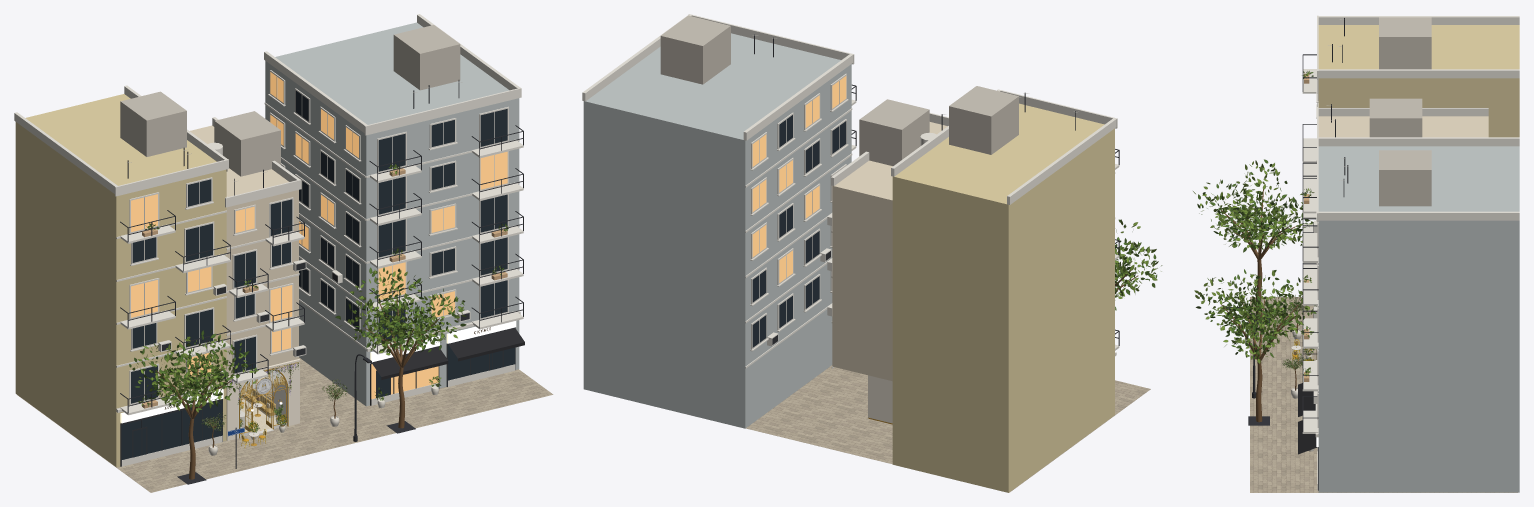
The model's file is boutique-30.glb.
3 renders of one model, left to right at view 1: azimuth 30°, elevation 25°; view 2: azimuth 150°, elevation 25°; view 3: azimuth 270°, elevation 25°, orthographic. The views are drawn at different scales.
Parts seen in each view (by area): view 1: bw4, bw6, bwtrim, win, paving, bw3, win_lit_n, facade_hi, leaf, iron, leaf2, aw_k (+5 smaller); view 2: bw6, bw4, bwtrim, facade_hi, bw3, paving, win, win_lit_n, plaster, leaf; view 3: bw6, bw4, bwtrim, paving, bw3, leaf, leaf2, facade_hi, iron, trunk, aw_k.
Boxes of the visible parts, left/top/right/bottom form: bw4: left=15, top=94, right=226, bottom=467; bw6: left=265, top=22, right=519, bottom=406; bwtrim: left=14, top=14, right=523, bottom=466; win: left=121, top=90, right=514, bottom=459; paving: left=17, top=357, right=553, bottom=492; bw3: left=120, top=25, right=460, bottom=176; win_lit_n: left=131, top=72, right=507, bottom=399; facade_hi: left=190, top=125, right=298, bottom=375; leaf: left=132, top=164, right=508, bottom=432; iron: left=120, top=80, right=523, bottom=484; leaf2: left=129, top=164, right=508, bottom=432; aw_k: left=372, top=328, right=524, bottom=379; bw6: left=583, top=33, right=851, bottom=428; bw4: left=892, top=103, right=1114, bottom=492; bwtrim: left=582, top=14, right=1119, bottom=368; facade_hi: left=832, top=122, right=947, bottom=381; bw3: left=660, top=15, right=1018, bottom=165; paving: left=746, top=365, right=1150, bottom=492; win: left=752, top=115, right=846, bottom=347; win_lit_n: left=752, top=76, right=846, bottom=282; plaster: left=868, top=375, right=892, bottom=423; leaf: left=1115, top=219, right=1162, bottom=300; bw6: left=1318, top=146, right=1519, bottom=492; bw4: left=1318, top=25, right=1519, bottom=137; bwtrim: left=1302, top=15, right=1519, bottom=490; paving: left=1250, top=297, right=1517, bottom=492; bw3: left=1369, top=17, right=1431, bottom=206; leaf: left=1193, top=70, right=1316, bottom=376; leaf2: left=1196, top=72, right=1316, bottom=374; facade_hi: left=1318, top=116, right=1488, bottom=137; iron: left=1226, top=18, right=1348, bottom=490; trunk: left=1221, top=189, right=1310, bottom=422; aw_k: left=1298, top=383, right=1317, bottom=454.
Size of the model in its own units: 30.93 by 22.09 by 21.18.
Materials: 63 (17 with a texture image).
